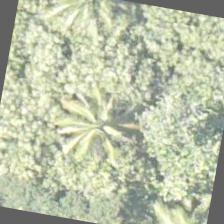Kelapa_Sawit: (23, 62, 127, 166)
